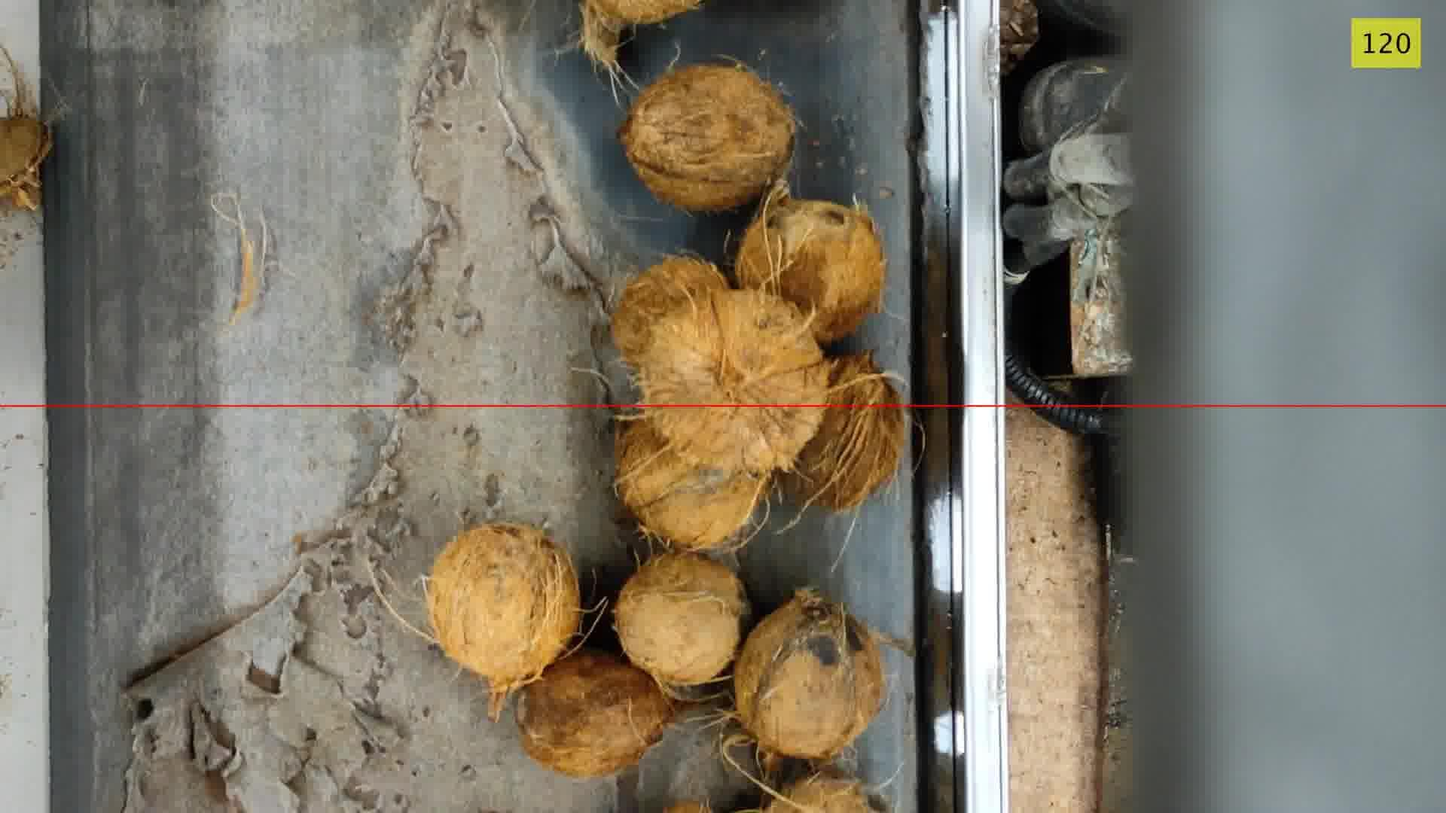Coconut: (636, 289, 828, 473), (426, 523, 581, 718), (619, 60, 799, 213), (734, 590, 885, 760), (735, 190, 886, 344), (516, 648, 675, 777), (615, 419, 770, 550), (783, 352, 908, 510), (614, 553, 748, 686), (611, 256, 729, 367), (582, 0, 701, 75), (0, 47, 52, 210), (763, 771, 887, 812), (664, 802, 712, 812)
